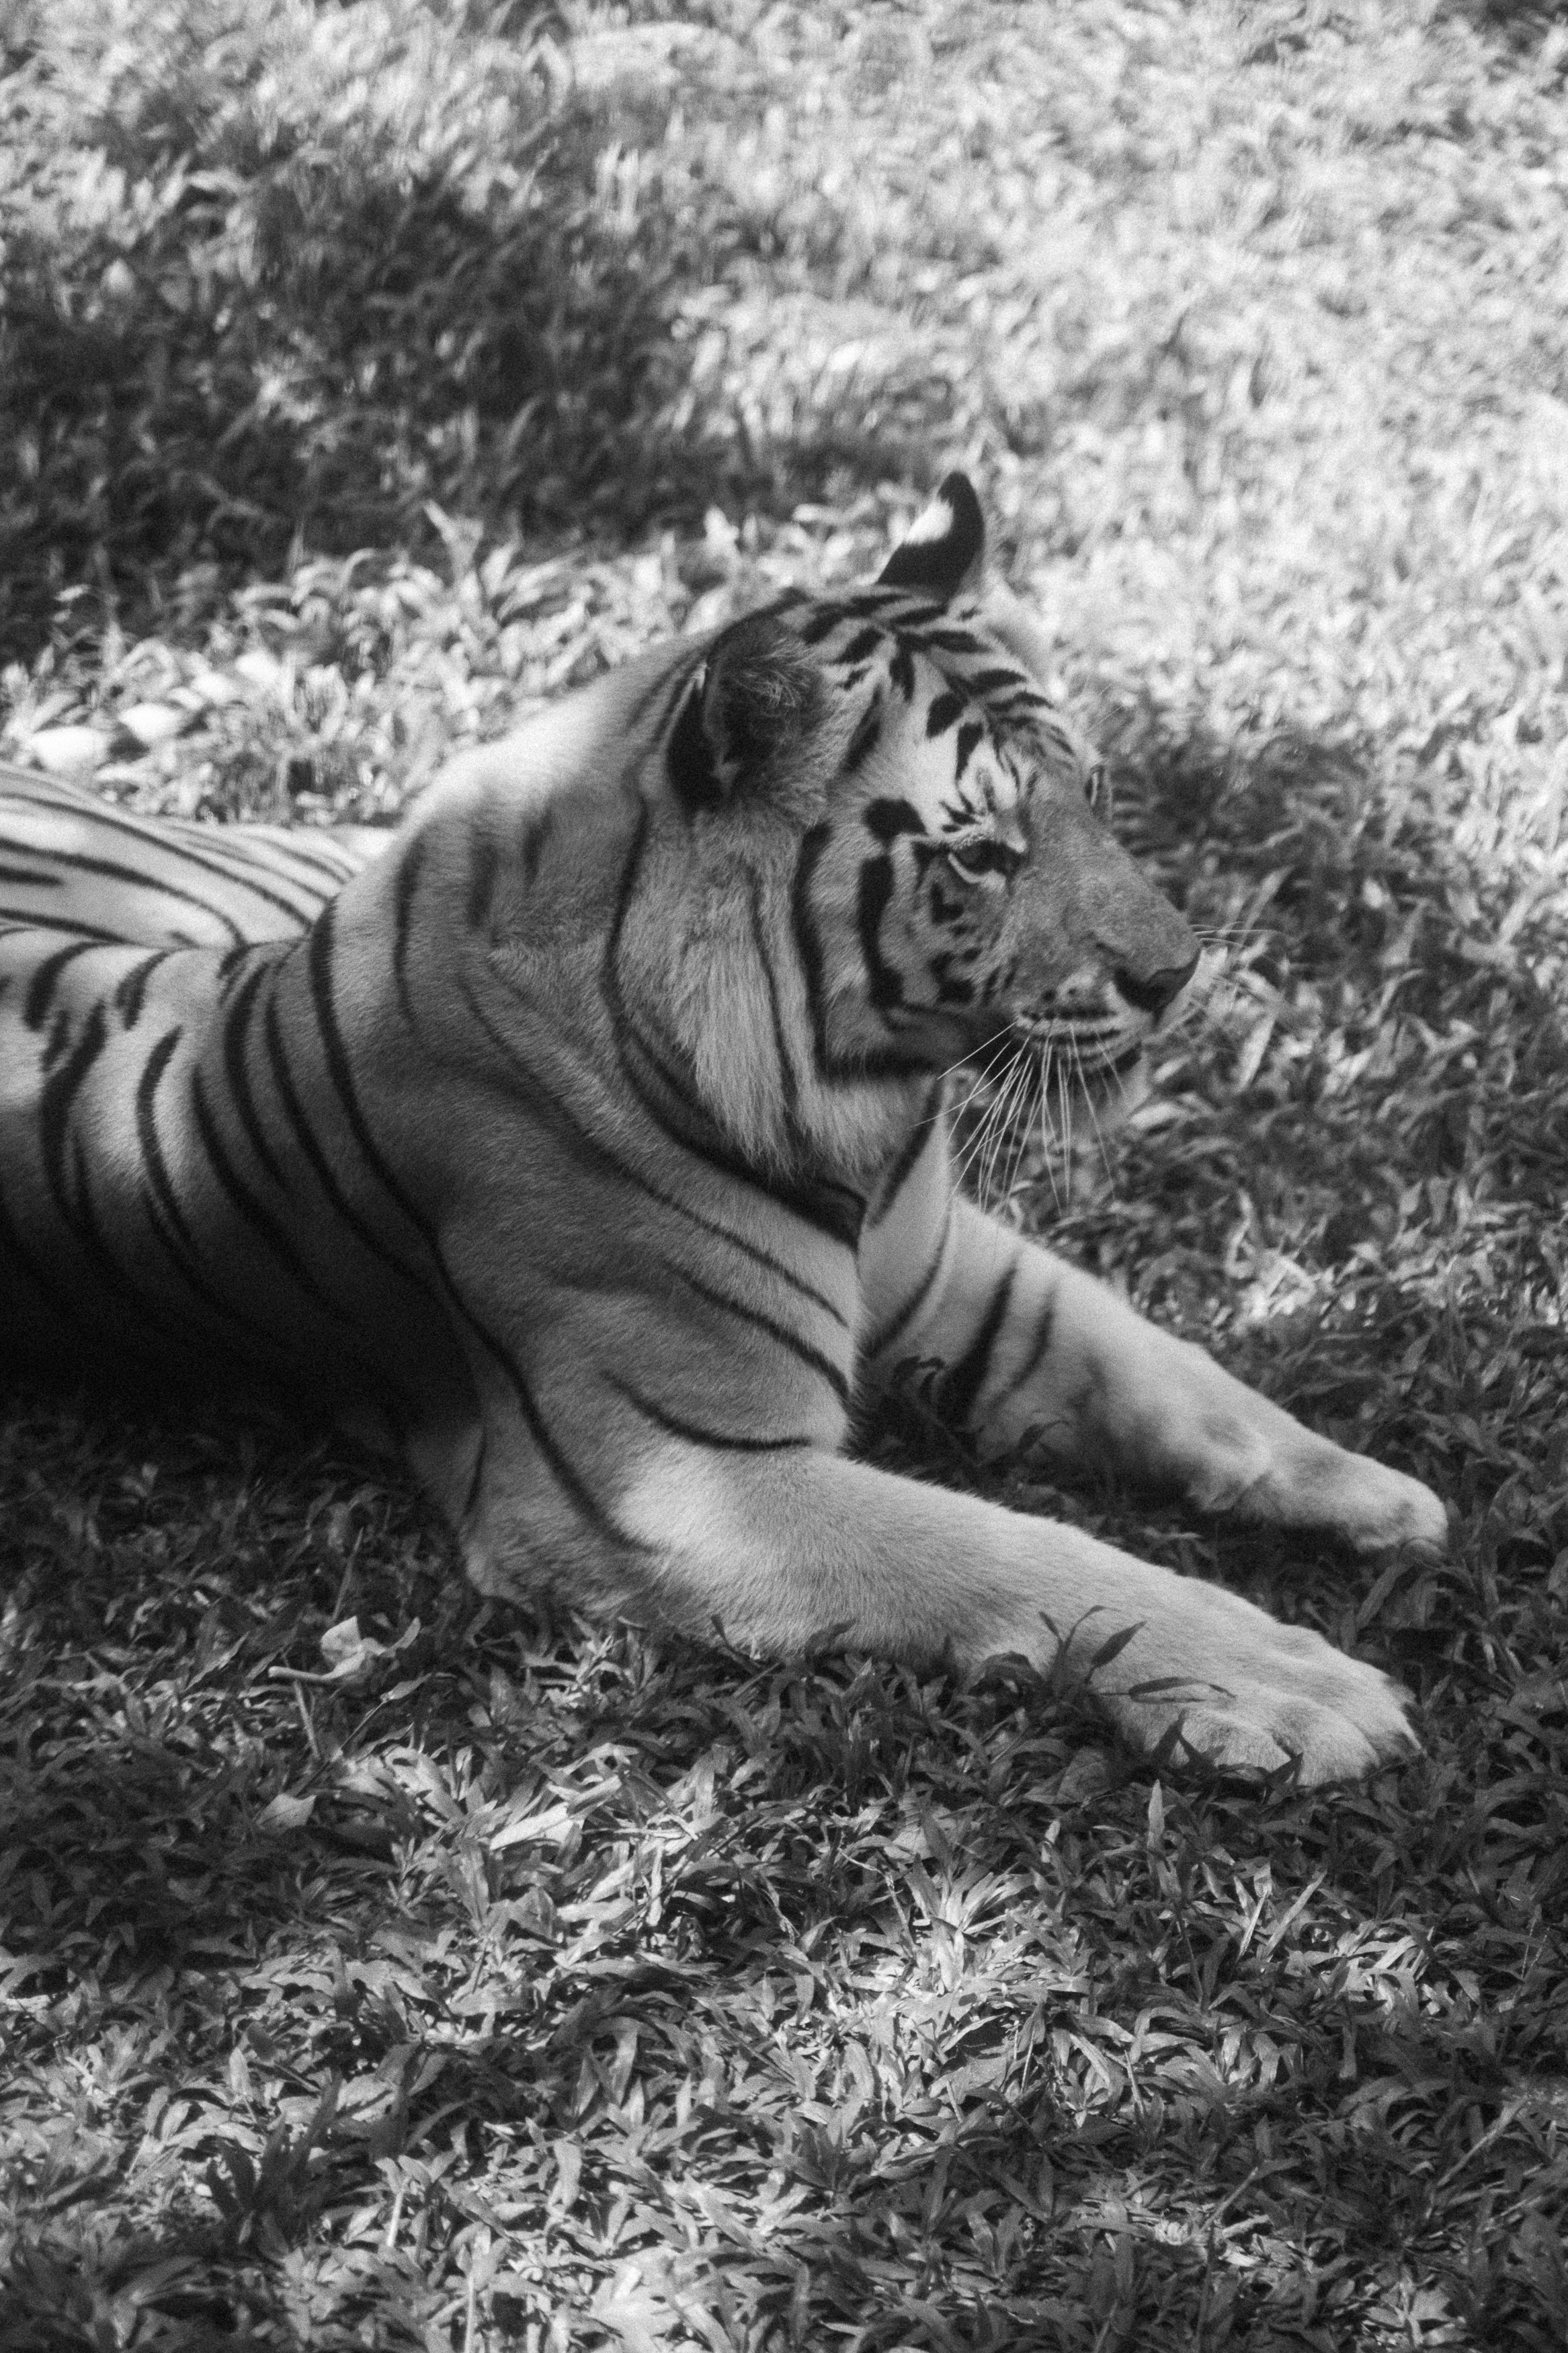tiger: (75, 504, 1466, 1898)
